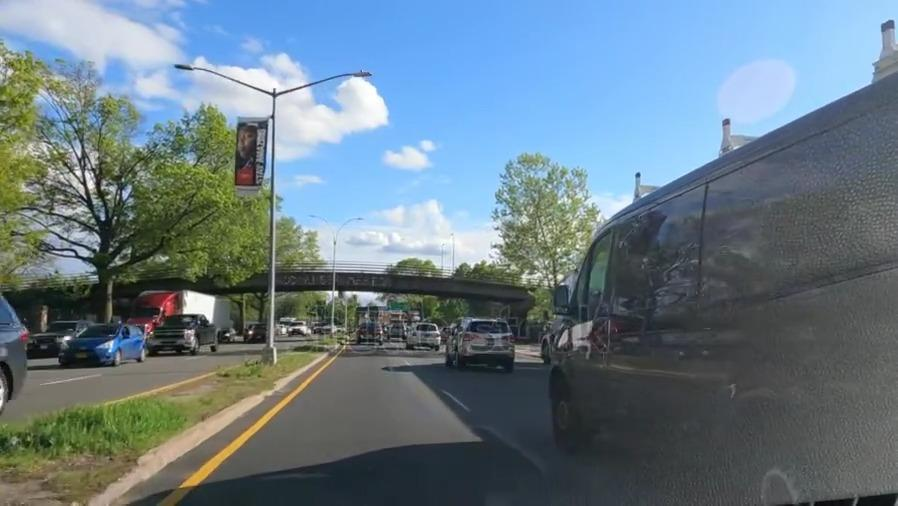car: (445, 318, 516, 363), (67, 324, 143, 364), (153, 315, 221, 356), (31, 315, 73, 354), (405, 319, 446, 351), (354, 319, 387, 348)
truck: (124, 291, 237, 323)
van: (548, 219, 898, 455)
wheel: (747, 438, 814, 506), (546, 372, 583, 452)
